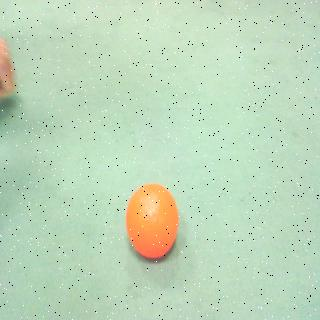orange: (121, 176, 181, 263)
